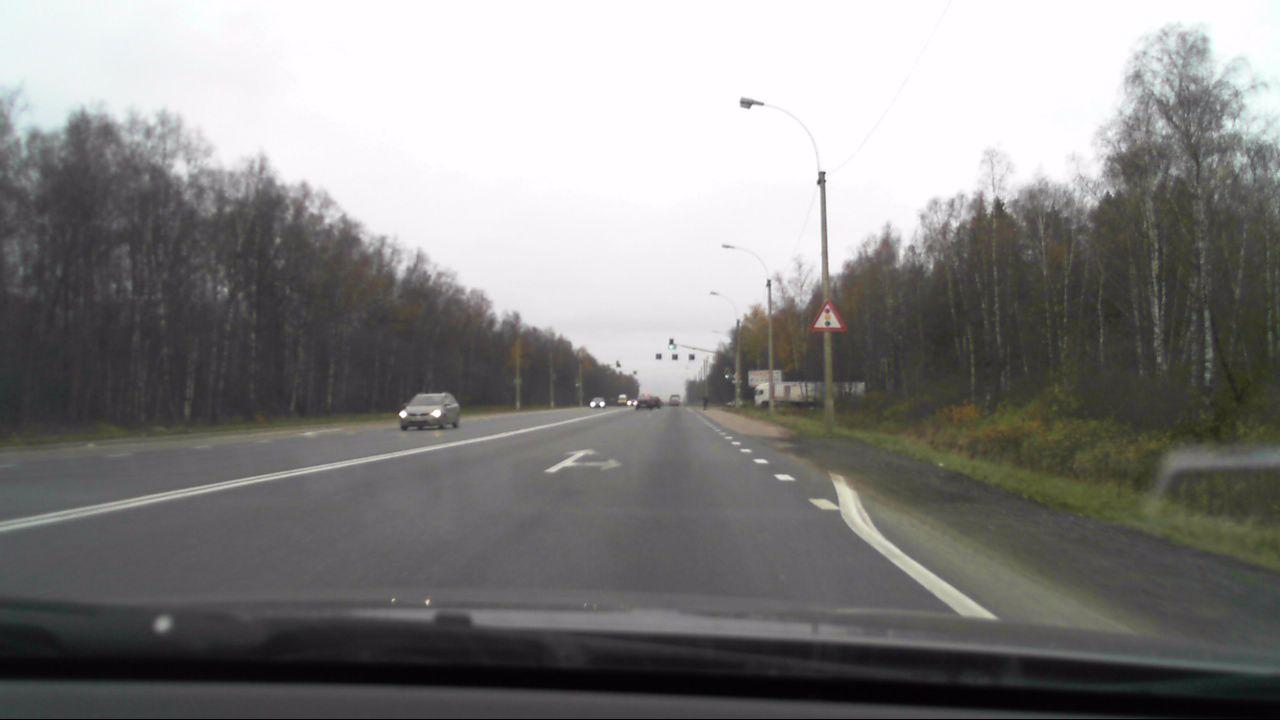1_8: (808, 302, 845, 334)
